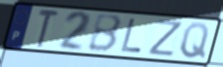2: (57, 10, 93, 53)
B: (86, 14, 123, 54)
L: (119, 17, 144, 55)
Q: (178, 22, 211, 61)
T: (36, 8, 61, 50)
Z: (146, 19, 185, 59)
